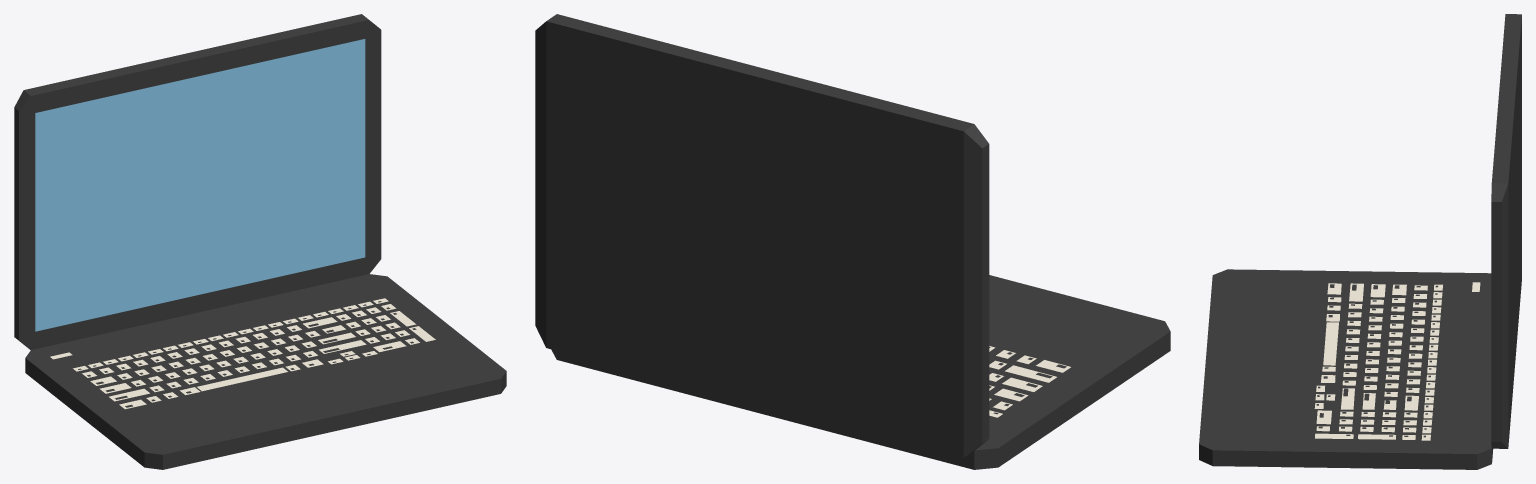
File: Childroom2_Computer.glb
3 views of the same model, side by side, from view 1: azimuth 30°, elevation 25°; view 2: azimuth 150°, elevation 25°; view 3: azimuth 270°, elevation 25° (orthographic). The views are drawn at different scales.
Parts seen in each view (by area): view 1: Childroom2_Computer; view 2: Childroom2_Computer; view 3: Childroom2_Computer.
Part boxes in pixels (box(x1,y1,x2,y2)): Childroom2_Computer: box(14, 14, 506, 469); Childroom2_Computer: box(535, 14, 1170, 469); Childroom2_Computer: box(1199, 14, 1521, 469).
Bounding box in the file's own units: 1.24 × 0.8757 × 0.9114.
Materials: 1 (1 with a texture image).
